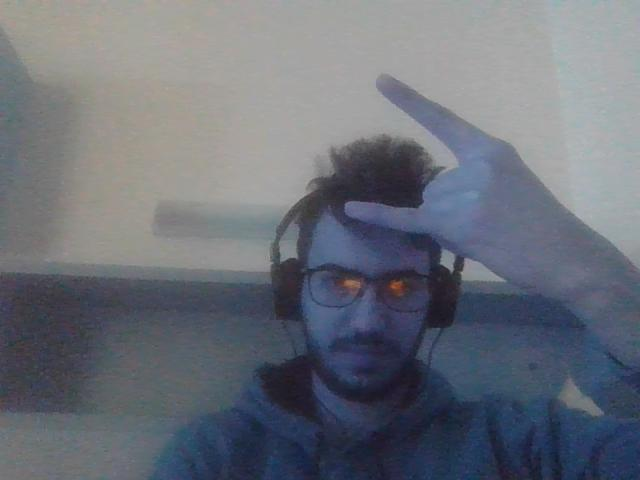iloveyou: (356, 68, 521, 272)
